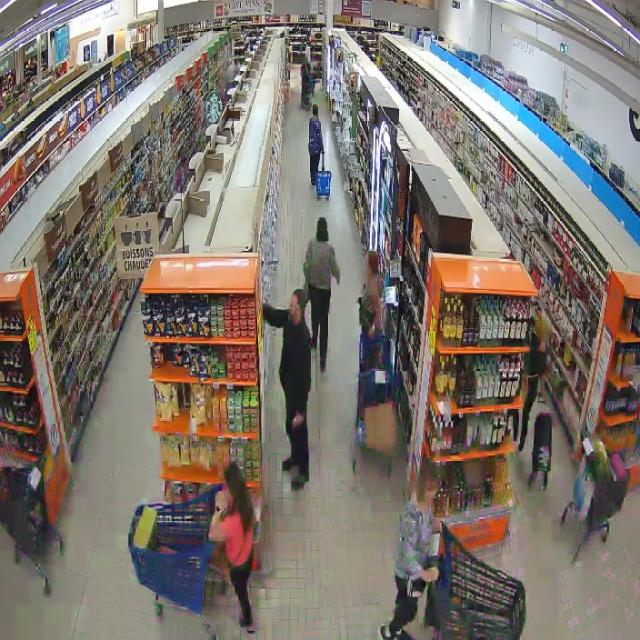bags: (359, 297, 375, 332), (407, 576, 425, 599)
hands: (422, 567, 439, 583), (216, 491, 229, 511), (292, 413, 304, 427), (432, 518, 441, 533), (369, 326, 375, 338), (336, 276, 341, 284)
person: (380, 458, 440, 639), (263, 289, 310, 490), (210, 463, 254, 634), (303, 217, 339, 371), (519, 322, 546, 451), (359, 251, 383, 370), (309, 105, 323, 185)
